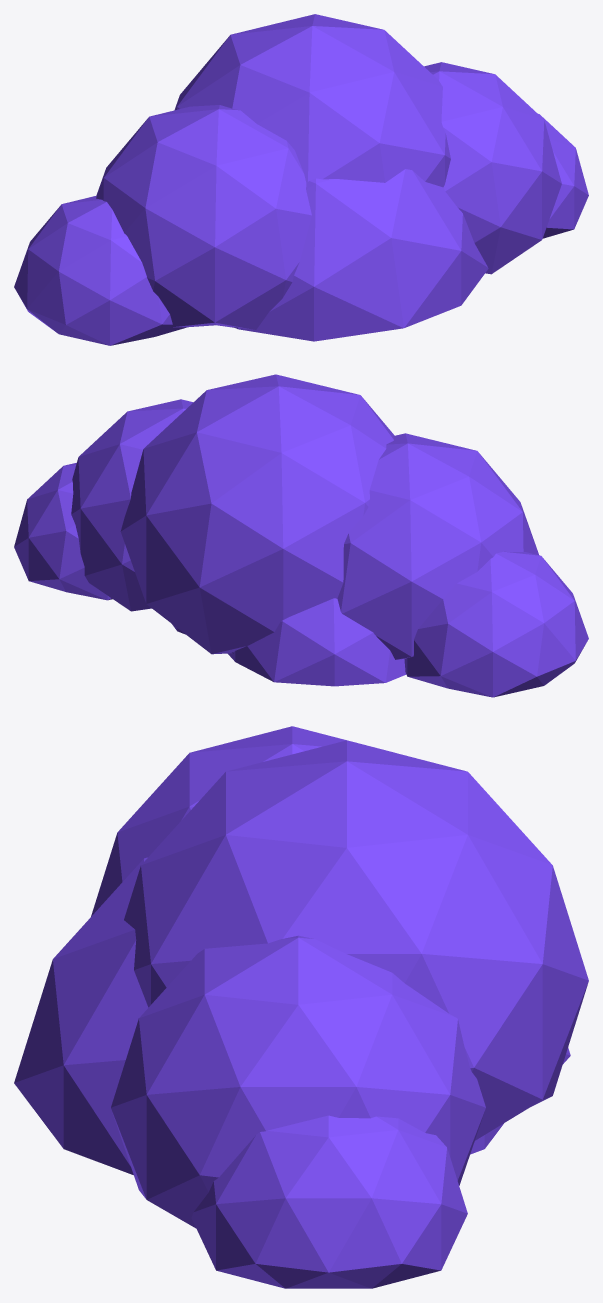
The model's file is cloud.glb.
3 renders of one model, top to bottom at view 1: azimuth 30°, elevation 25°; view 2: azimuth 150°, elevation 25°; view 3: azimuth 270°, elevation 25°, orthographic. The views are drawn at different scales.
Bounding box in the file's own units: 3.21 × 1.26 × 1.9.
